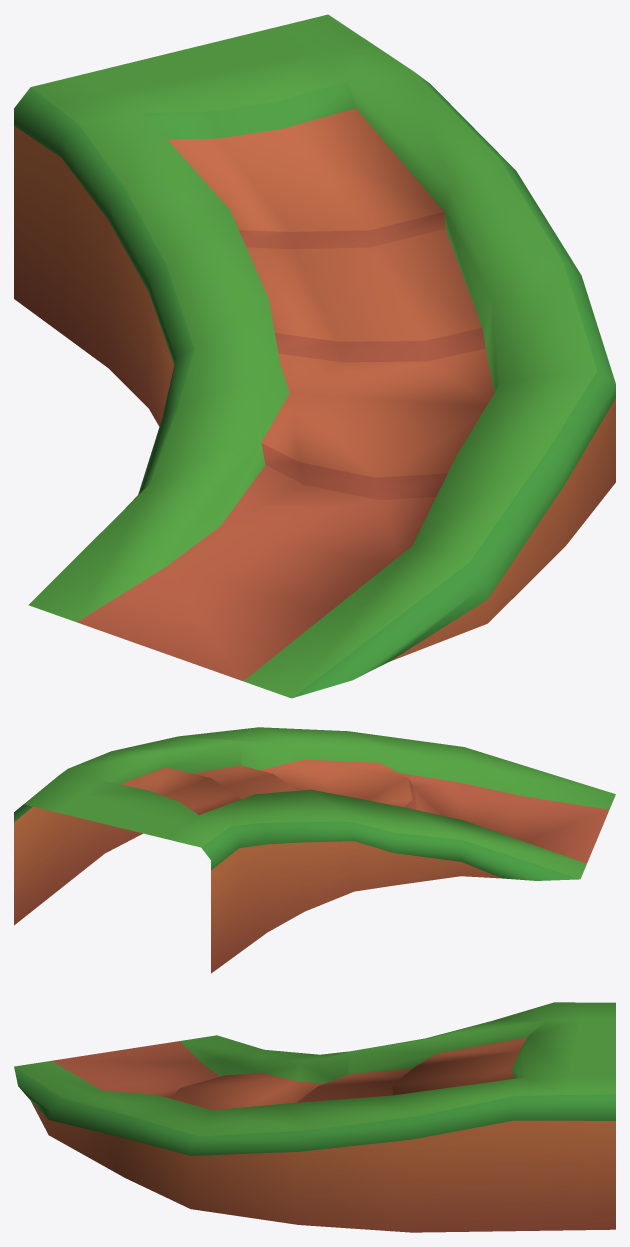
Rendered from Bent Stairs 01.FBX.
The picture shows the model from 3 angles, top to bottom: view 1: azimuth 30°, elevation 25°; view 2: azimuth 150°, elevation 25°; view 3: azimuth 270°, elevation 25°; orthographic projection. The views are drawn at different scales.
Parts seen in each view (by area): view 1: Bent Stairs 01; view 2: Bent Stairs 01; view 3: Bent Stairs 01.
Boxes of the visible parts, x1=… form: Bent Stairs 01: x1=14, y1=14, x2=615, y2=698; Bent Stairs 01: x1=14, y1=727, x2=615, y2=973; Bent Stairs 01: x1=14, y1=1002, x2=615, y2=1232.
Bounding box in the file's own units: 972 × 300 × 1254.
1 material, 1 textured.
